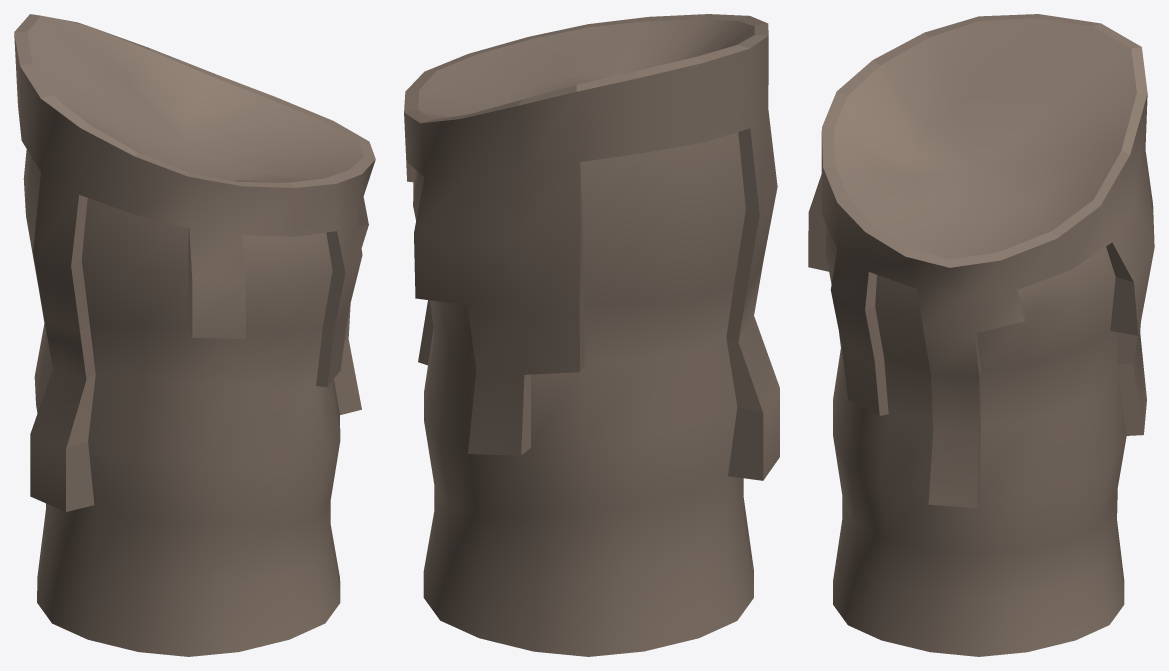
The model's file is candle 3 colored.fbx.
3 renders of one model, left to right at view 1: azimuth 30°, elevation 25°; view 2: azimuth 150°, elevation 25°; view 3: azimuth 270°, elevation 25°, orthographic. The views are drawn at different scales.
Visible parts, largest first — view 1: Candle 3; view 2: Candle 3; view 3: Candle 3.
Boxes of the visible parts, x1,y1,x2,y2 form: Candle 3: (14, 14, 375, 656); Candle 3: (404, 14, 779, 656); Candle 3: (808, 14, 1154, 656).
Size of the model in its own units: 8.68 by 13.76 by 8.33.
